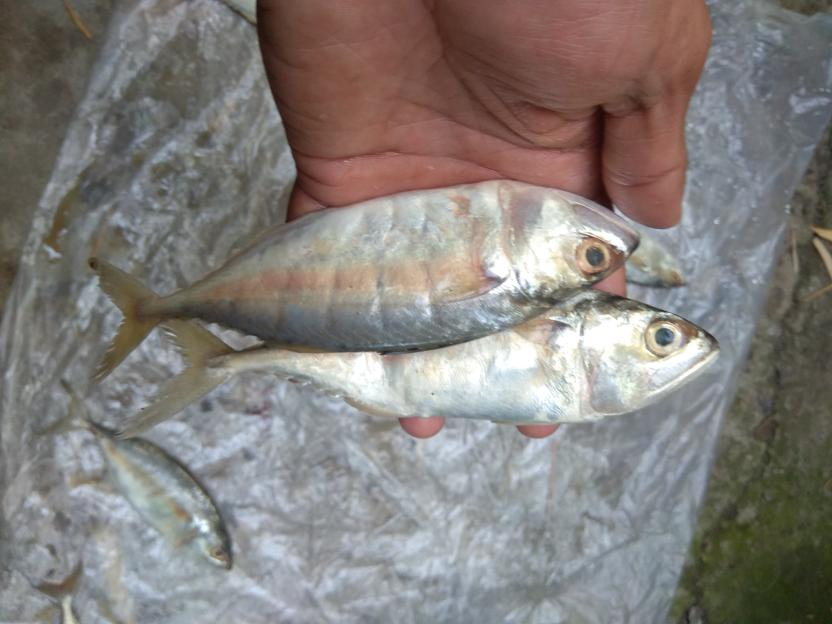Fish head: (505, 177, 642, 316), (578, 291, 722, 421), (184, 518, 233, 573)
Fish tail: (114, 317, 238, 441), (91, 255, 162, 388), (32, 374, 88, 441), (30, 555, 84, 602)
